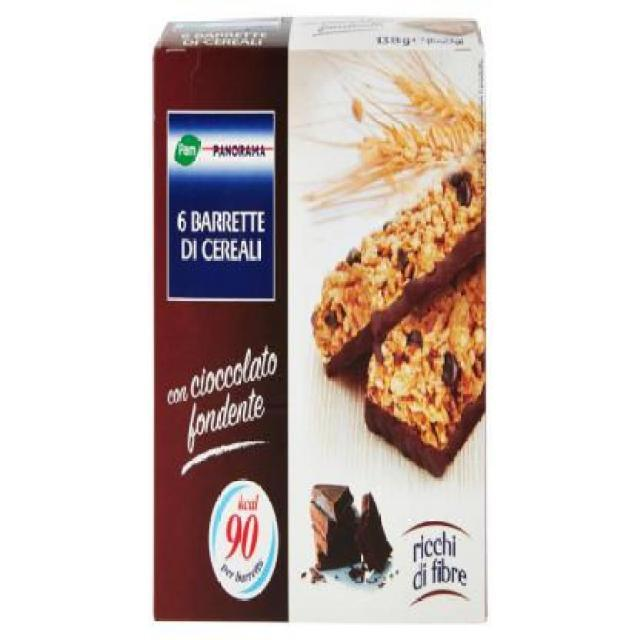Cereal bar: (138, 12, 496, 638)
